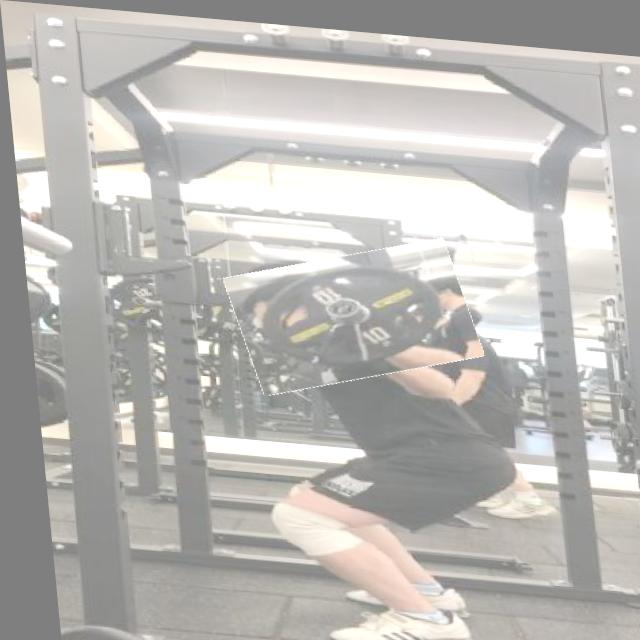barbell: (221, 229, 477, 393)
